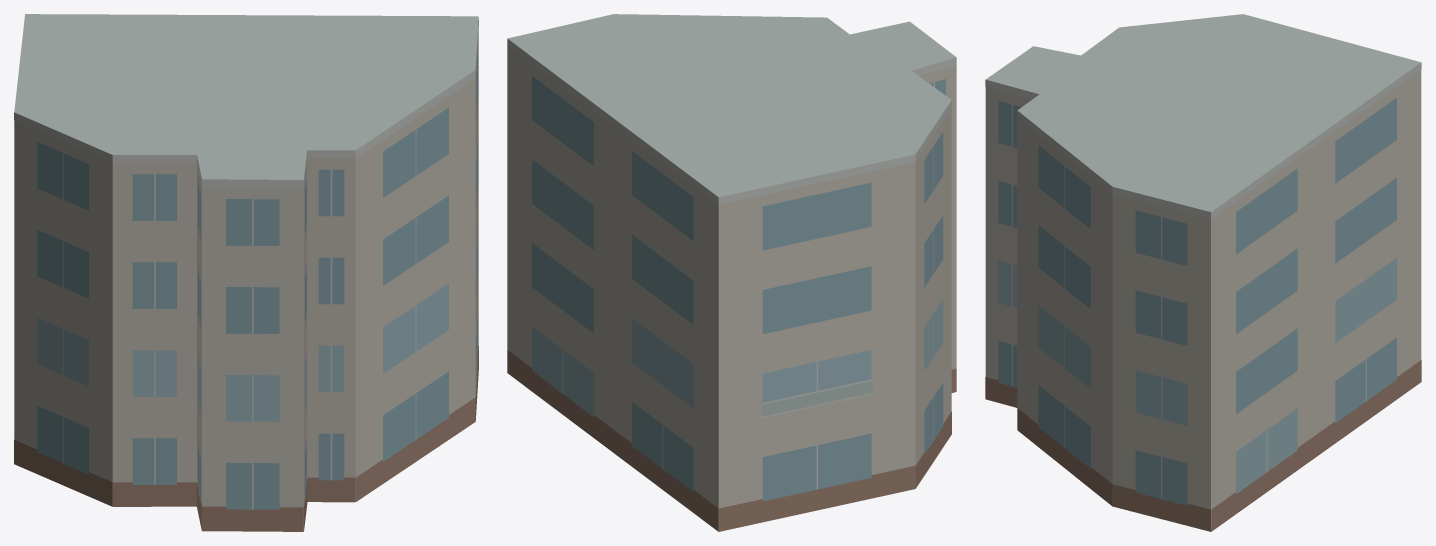
Rendered from survey-upis-32974741.glb.
The picture shows the model from 3 angles, left to right: view 1: azimuth 30°, elevation 25°; view 2: azimuth 150°, elevation 25°; view 3: azimuth 270°, elevation 25°; orthographic projection. The views are drawn at different scales.
Parts seen in each view (by area): view 1: survey-upis-32974741.tmp; view 2: survey-upis-32974741.tmp; view 3: survey-upis-32974741.tmp.
Boxes of the visible parts, bbox=[...] form: survey-upis-32974741.tmp: bbox=[14, 14, 478, 531]; survey-upis-32974741.tmp: bbox=[507, 14, 956, 531]; survey-upis-32974741.tmp: bbox=[985, 14, 1421, 531].
Size of the model in its own units: 14.5 by 10.9 by 13.48.
